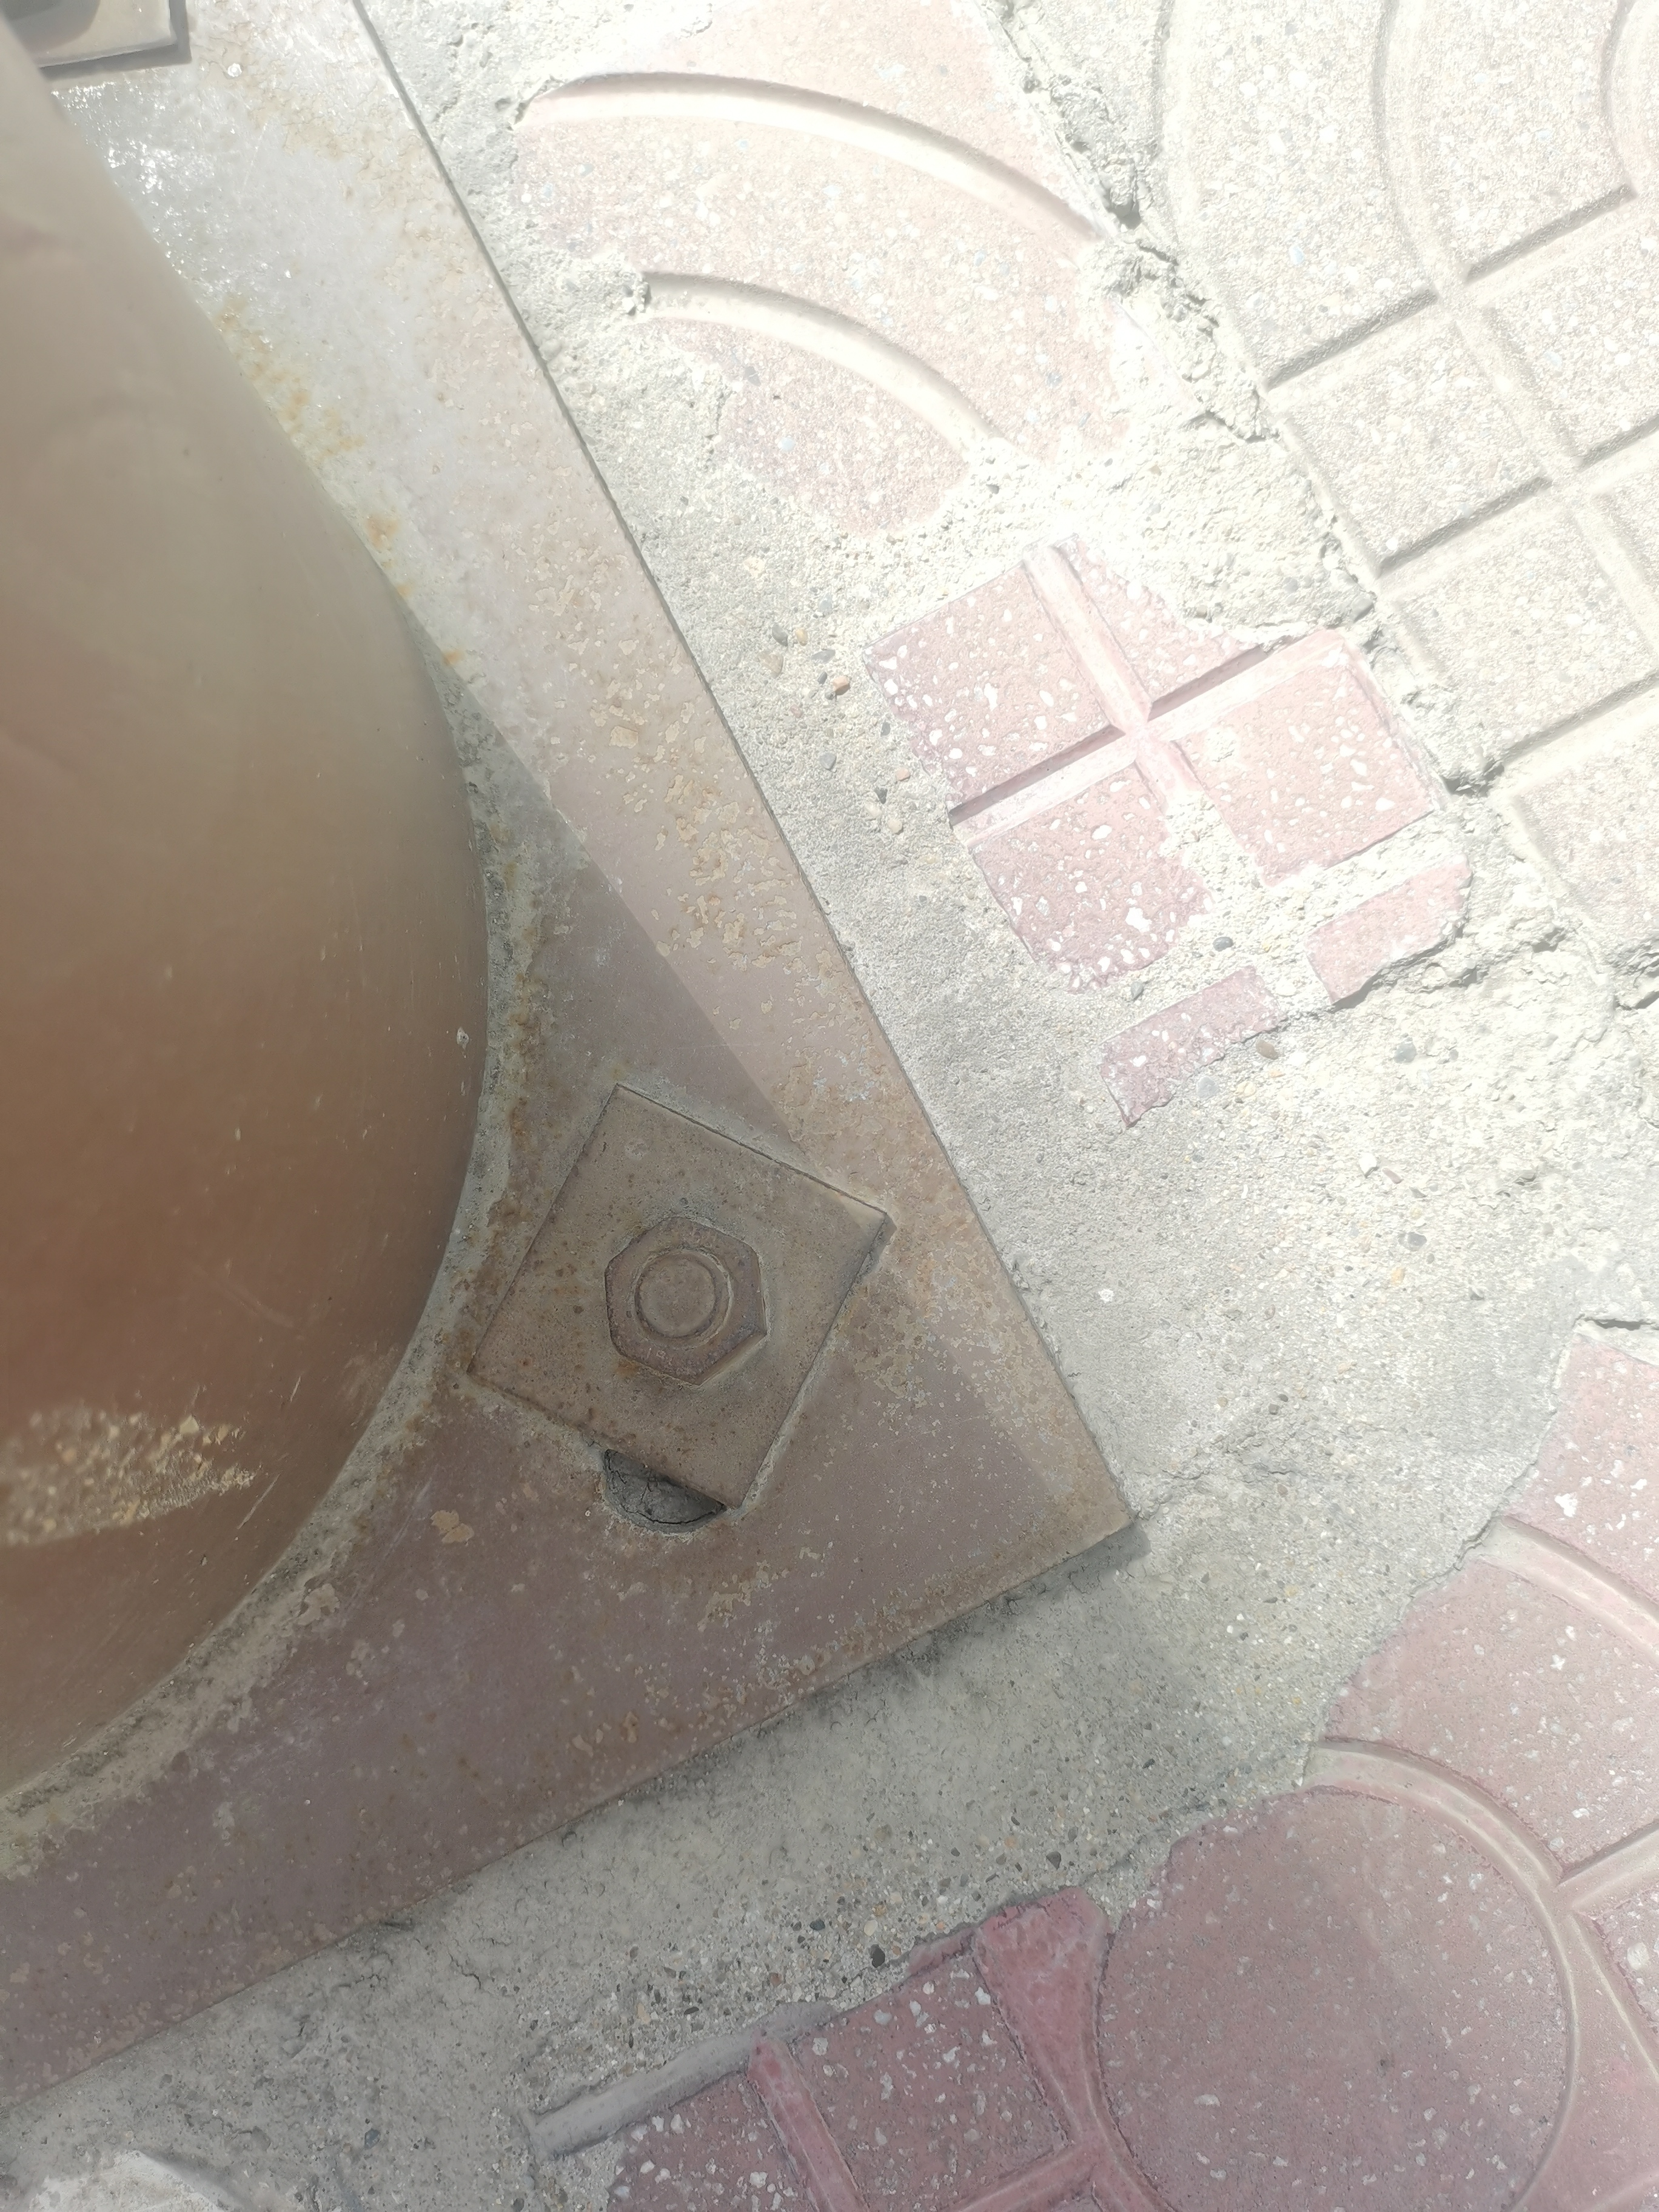bolt_b: (599, 1212, 774, 1390)
